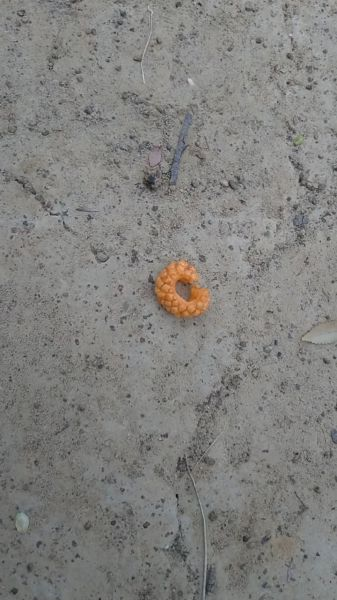eggs: (153, 254, 208, 324)
